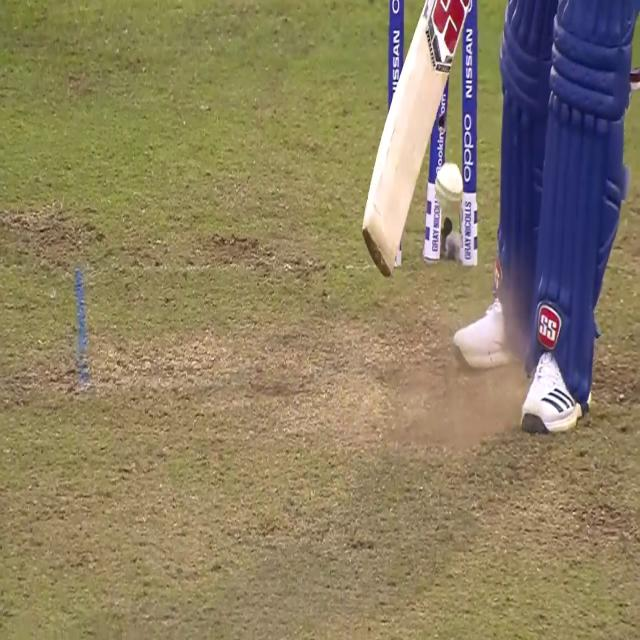ball: (431, 158, 463, 206)
